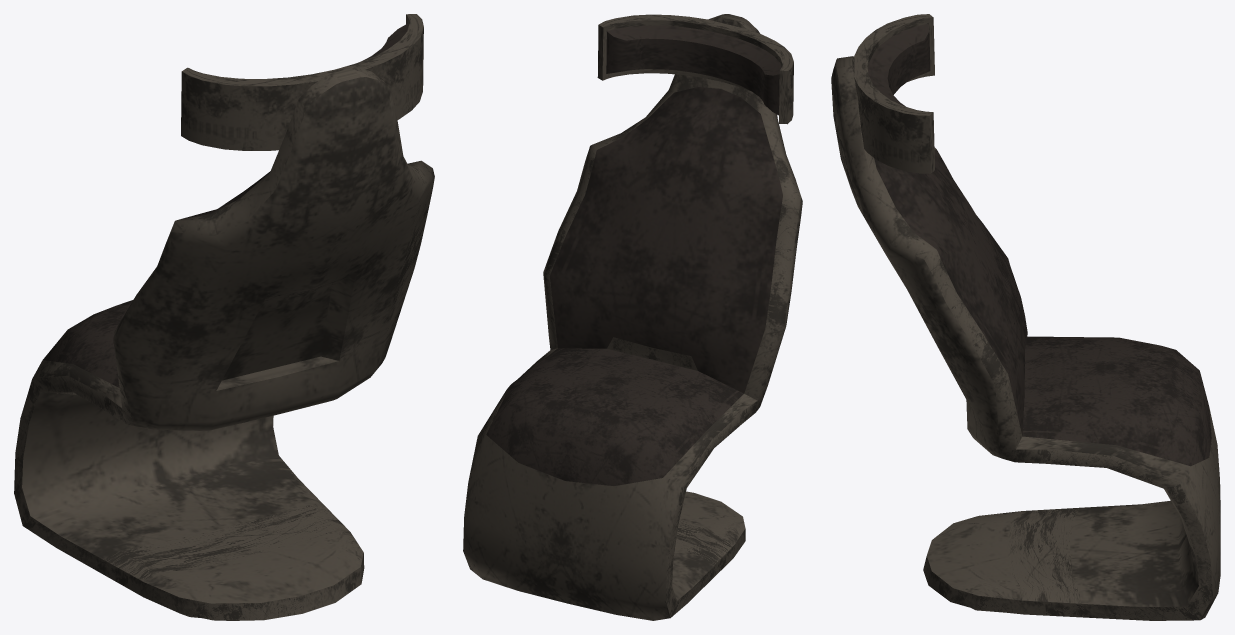
The model's file is Prop_Chair.gltf.
3 renders of one model, left to right at view 1: azimuth 30°, elevation 25°; view 2: azimuth 150°, elevation 25°; view 3: azimuth 270°, elevation 25°, orthographic. The views are drawn at different scales.
Parts seen in each view (by area): view 1: Prop_Chair; view 2: Prop_Chair; view 3: Prop_Chair.
Part boxes in pixels (box(x1,y1,x2,y2)): Prop_Chair: box(14, 14, 434, 620); Prop_Chair: box(463, 14, 802, 620); Prop_Chair: box(831, 14, 1220, 620).
Bounding box in the file's own units: 0.8807 × 1.64 × 1.12.
Materials: 2 (2 with a texture image).
